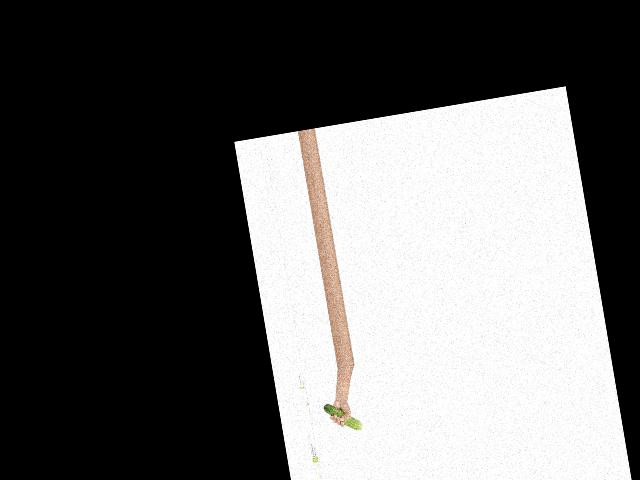cucumber: (322, 397, 362, 435)
